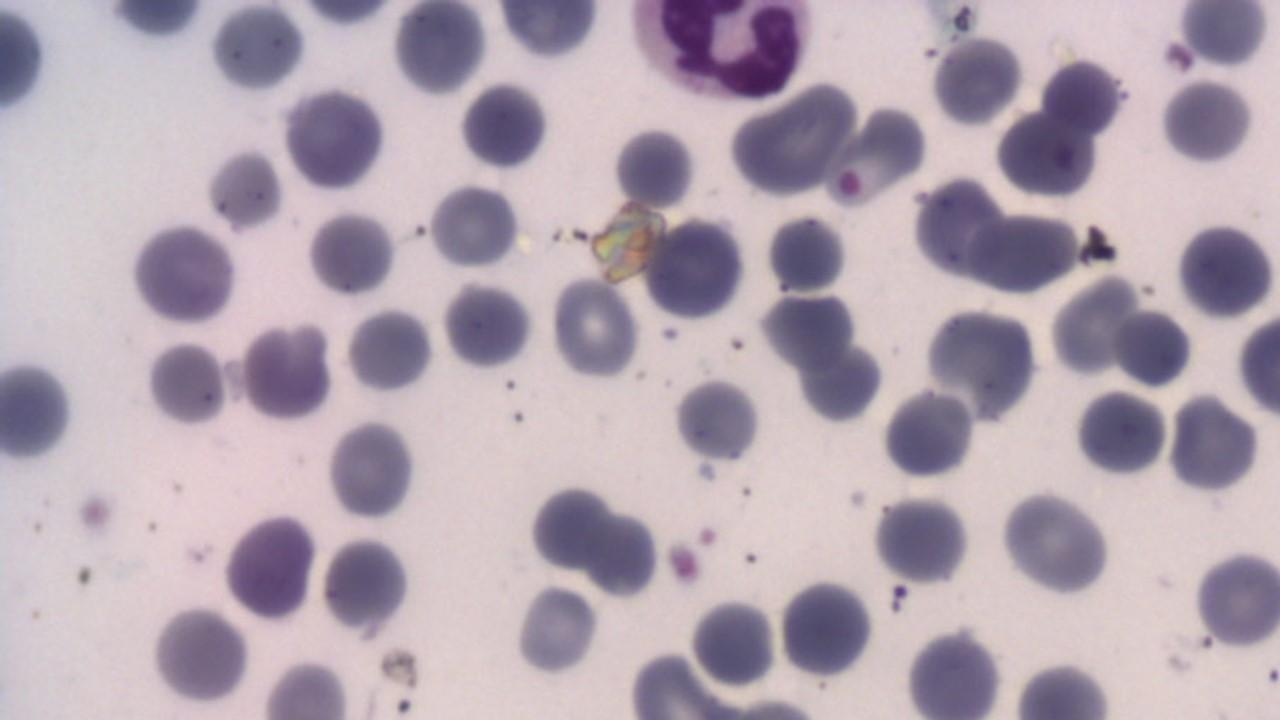Platelets: (998, 484, 1116, 600), (220, 508, 319, 624), (1171, 218, 1279, 322), (324, 417, 424, 526), (318, 532, 414, 638), (870, 492, 972, 589), (927, 32, 1024, 131), (1189, 544, 1279, 650), (1155, 76, 1255, 171), (0, 352, 82, 466), (1071, 386, 1169, 481), (454, 80, 552, 173), (509, 584, 602, 680), (441, 278, 532, 374), (139, 336, 231, 430), (343, 305, 438, 395), (608, 120, 698, 212), (672, 374, 762, 465), (202, 144, 286, 234), (766, 210, 850, 296), (0, 3, 54, 125), (102, 3, 207, 44), (68, 486, 121, 536), (296, 0, 393, 27), (662, 536, 706, 590), (693, 459, 721, 488), (1264, 666, 1280, 688)
RBC: (727, 79, 853, 201), (126, 219, 240, 330), (1000, 490, 1114, 598), (281, 86, 388, 195), (218, 508, 319, 623), (641, 215, 746, 323), (1171, 218, 1279, 321), (146, 602, 252, 706), (775, 576, 876, 682), (1163, 392, 1263, 496), (324, 414, 418, 524), (898, 624, 1006, 716), (550, 274, 641, 383), (388, 0, 487, 100), (878, 382, 976, 483), (239, 318, 329, 427), (207, 2, 306, 95), (874, 493, 976, 583), (1191, 546, 1279, 650), (439, 280, 534, 374), (303, 207, 400, 299), (688, 592, 780, 688), (343, 303, 438, 395), (428, 178, 520, 272), (143, 333, 231, 431), (669, 372, 763, 462), (580, 504, 661, 600), (1111, 306, 1193, 390), (1236, 306, 1280, 426)
WBC: (12, 0, 676, 408), (623, 0, 824, 108), (121, 218, 241, 330), (219, 508, 321, 622), (776, 574, 878, 682), (898, 620, 1009, 719), (1164, 390, 1266, 495), (867, 492, 976, 588), (453, 79, 556, 175), (671, 374, 764, 464), (493, 2, 607, 61)
